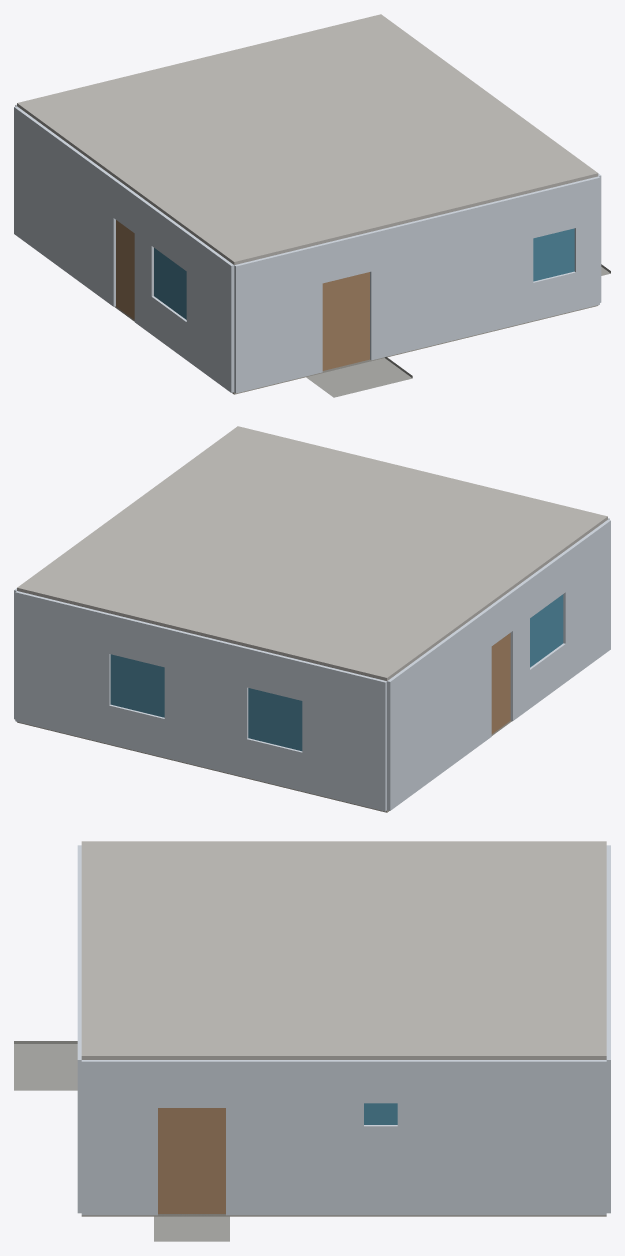
File: 2BHK_09.glb
3 views of the same model, one above another, from view 1: azimuth 30°, elevation 25°; view 2: azimuth 150°, elevation 25°; view 3: azimuth 270°, elevation 25° (orthographic). The views are drawn at different scales.
Parts seen in each view (by area): view 1: Roof, Wall_W001, Wall_W003, Wall_W002, Wall_W015, Wall_W007, Door_D_BAL_01, Balcony_BAL_MAIN, Window_WN02, Door_D_ENTRY, Window_WN01, Floor; view 2: Roof, Wall_W022, Wall_W023, Wall_W015, Wall_W024, Wall_W002, Wall_W007, Window_WN03, Window_WN04, Door_D_ENTRY, Window_WN01, Floor; view 3: Roof, Wall_W021, Wall_W005, Wall_W013, Door_D_BAL_02, Balcony_BAL_MAIN, Balcony_BAL_DRY, Wall_W003, Floor, Wall_W024, Window_WN05, Wall_W001.
Part boxes in pixels (x1=…): Roof: x1=17, y1=14, x2=598, y2=264; Wall_W001: x1=234, y1=211, x2=457, y2=393; Wall_W003: x1=457, y1=176, x2=599, y2=339; Wall_W002: x1=140, y1=198, x2=234, y2=392; Wall_W015: x1=14, y1=106, x2=94, y2=290; Wall_W007: x1=92, y1=163, x2=142, y2=325; Door_D_BAL_01: x1=322, y1=272, x2=369, y2=370; Balcony_BAL_MAIN: x1=306, y1=357, x2=412, y2=397; Window_WN02: x1=533, y1=228, x2=574, y2=281; Door_D_ENTRY: x1=116, y1=220, x2=134, y2=319; Window_WN01: x1=154, y1=248, x2=186, y2=319; Floor: x1=114, y1=305, x2=598, y2=394; Roof: x1=17, y1=426, x2=607, y2=680; Wall_W022: x1=222, y1=641, x2=386, y2=811; Wall_W023: x1=96, y1=611, x2=223, y2=771; Wall_W015: x1=387, y1=623, x2=469, y2=810; Wall_W024: x1=15, y1=591, x2=97, y2=740; Wall_W002: x1=515, y1=519, x2=610, y2=716; Wall_W007: x1=467, y1=587, x2=518, y2=752; Window_WN03: x1=248, y1=688, x2=302, y2=751; Window_WN04: x1=110, y1=654, x2=164, y2=717; Door_D_ENTRY: x1=491, y1=633, x2=510, y2=733; Window_WN01: x1=530, y1=594, x2=563, y2=667; Floor: x1=17, y1=720, x2=511, y2=812; Roof: x1=81, y1=841, x2=606, y2=1059; Wall_W021: x1=417, y1=1060, x2=606, y2=1215; Wall_W005: x1=81, y1=1060, x2=302, y2=1215; Wall_W013: x1=302, y1=1060, x2=417, y2=1215; Door_D_BAL_02: x1=158, y1=1108, x2=225, y2=1213; Balcony_BAL_MAIN: x1=14, y1=1041, x2=77, y2=1090; Balcony_BAL_DRY: x1=154, y1=1214, x2=229, y2=1241; Wall_W003: x1=77, y1=976, x2=81, y2=1213; Floor: x1=81, y1=1214, x2=606, y2=1216; Wall_W024: x1=606, y1=1012, x2=610, y2=1213; Window_WN05: x1=364, y1=1103, x2=397, y2=1124; Wall_W001: x1=77, y1=845, x2=81, y2=976.
Size of the model in its own units: 10.29 by 3.18 by 10.74.
